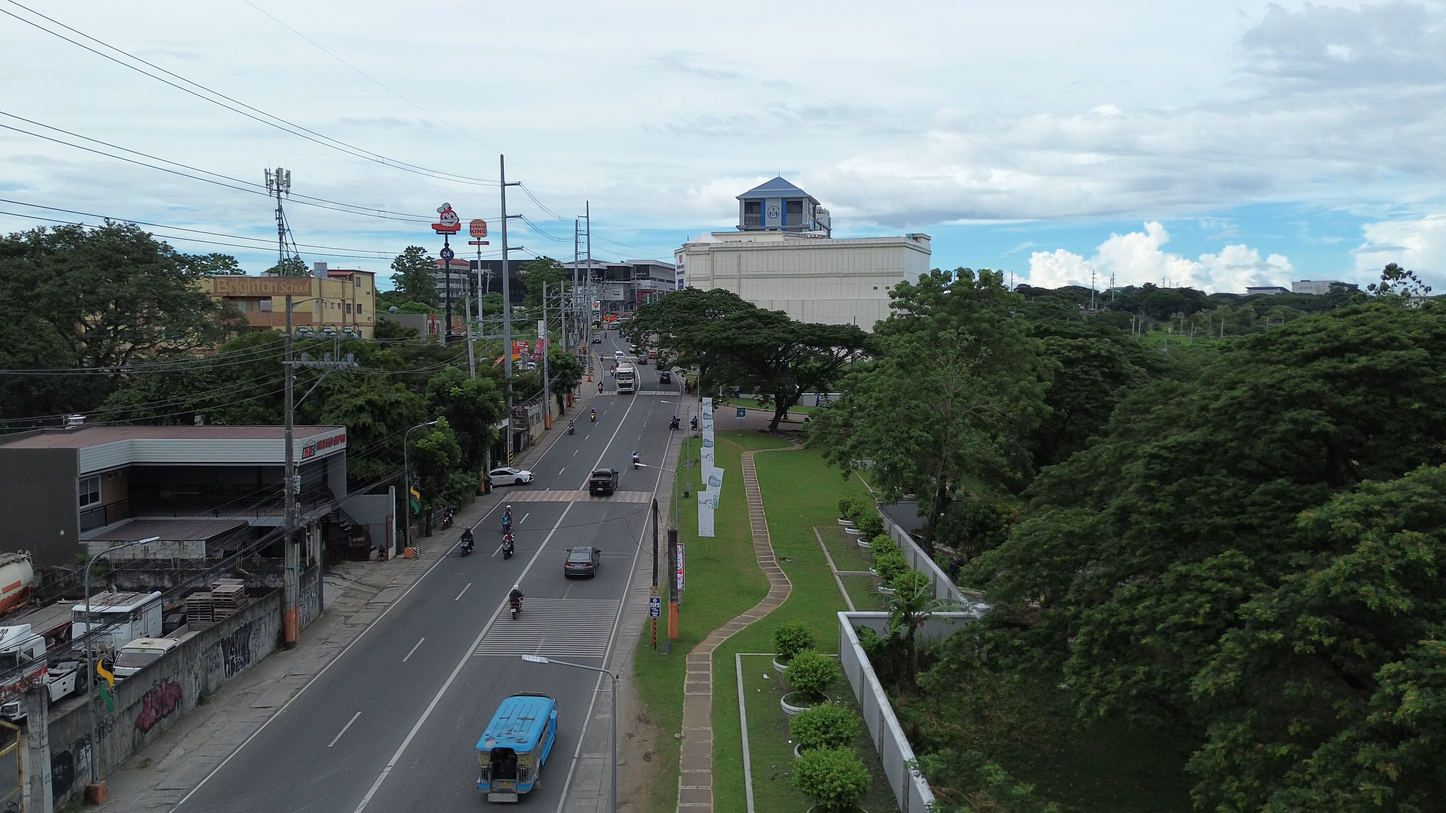car: (490, 467, 533, 485), (658, 370, 671, 384), (647, 350, 656, 359), (592, 336, 602, 343)
motorcycle: (502, 533, 515, 559), (460, 536, 474, 557), (509, 599, 521, 620), (669, 416, 680, 430), (567, 422, 575, 435), (590, 410, 595, 422)
truck: (0, 625, 76, 721)
vehicle: (476, 693, 556, 802), (72, 592, 162, 650), (0, 624, 46, 693), (112, 638, 178, 679), (0, 553, 33, 615), (44, 662, 81, 703), (564, 546, 600, 577), (589, 468, 619, 495), (615, 364, 637, 393), (501, 534, 515, 559), (654, 357, 667, 370), (614, 351, 627, 363), (647, 349, 657, 359)
